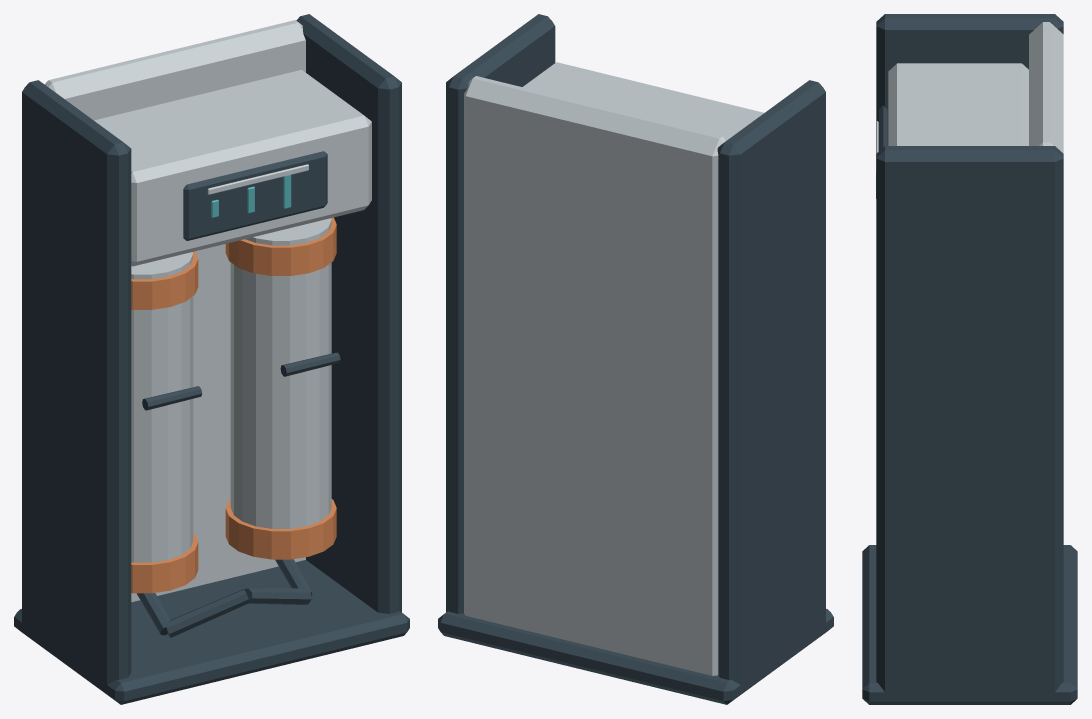
3 renders of one model, left to right at view 1: azimuth 30°, elevation 25°; view 2: azimuth 150°, elevation 25°; view 3: azimuth 270°, elevation 25°, orthographic.
Parts seen in each view (by area): view 1: RI-005 Open life-support service frame batched; view 2: RI-005 Open life-support service frame batched; view 3: RI-005 Open life-support service frame batched.
Part boxes in pixels (bbox=[...]): RI-005 Open life-support service frame batched: bbox=[14, 14, 409, 704]; RI-005 Open life-support service frame batched: bbox=[438, 14, 833, 704]; RI-005 Open life-support service frame batched: bbox=[862, 14, 1077, 704].
Size of the model in its own units: 0.98 by 1.76 by 0.62.
